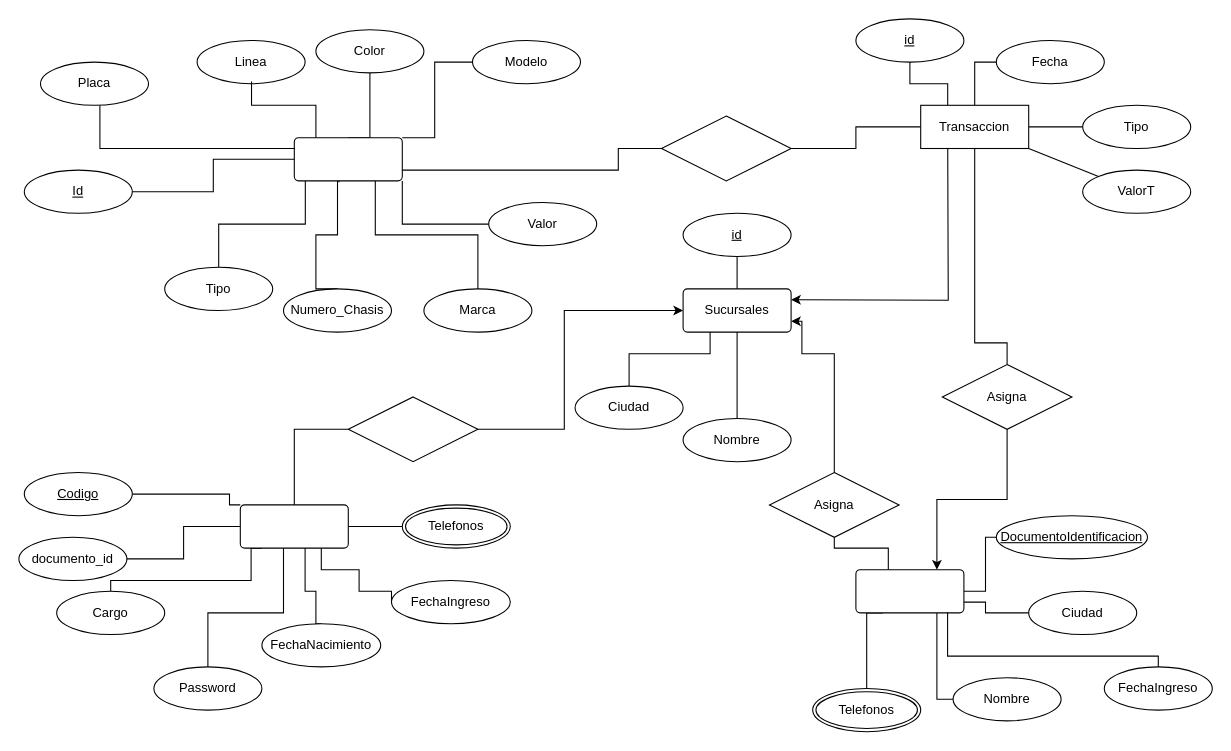
Image size: 1231x751. Some labels were removed from this diagram. Here are the shapes that lost their labels. From the top down, the centre of each, then its label:
point 347,159: Automotores
point 725,148: Involucra
point 412,429: Labora
point 293,526: Empleados
point 909,591: Cliente
